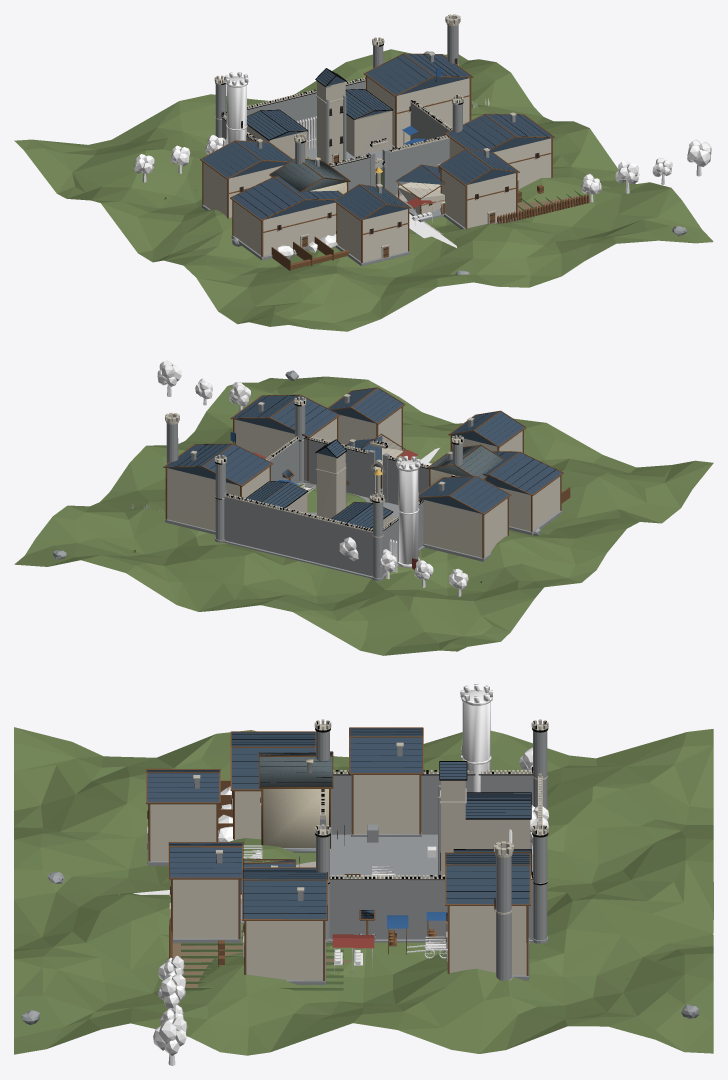
File: prime_village_stage1.glb
3 views of the same model, one above another, from view 1: azimuth 30°, elevation 25°; view 2: azimuth 150°, elevation 25°; view 3: azimuth 270°, elevation 25° (orthographic). The views are drawn at different scales.
Visible parts, largest first — view 1: PK_Village_Terrain_LOD0_Atlas, PK_Village_Castle_L1_LOD0_Atlas, PK_Village_Stable_L1_LOD0_Atlas, PK_Village_Academy_L1_LOD0_Atlas, PK_Village_House_B_LOD0_Atlas, PK_Village_House_C_LOD0_Atlas, PK_Village_Warehouse_L1_LOD0_Atlas, PK_Village_Blacksmith_L1_LOD0_Atlas, PK_Village_Farm_L1_LOD0_Atlas, PK_Village_House_L1_LOD0_Atlas, PK_Tree_Edge_B_LOD0, PK_Village_Watchtower_L1_LOD0 (+1 smaller); view 2: PK_Village_Terrain_LOD0_Atlas, PK_Village_Castle_L1_LOD0_Atlas, PK_Village_Academy_L1_LOD0_Atlas, PK_Village_Blacksmith_L1_LOD0_Atlas, PK_Village_Warehouse_L1_LOD0_Atlas, PK_Village_Stable_L1_LOD0_Atlas, PK_Village_House_B_LOD0_Atlas, PK_Village_House_C_LOD0_Atlas, PK_Village_Watchtower_L1_LOD0, PK_Village_House_L1_LOD0_Atlas, PK_Tree_Edge_A_LOD0, PK_Tree_Edge_B_LOD0 (+1 smaller); view 3: PK_Village_Terrain_LOD0_Atlas, PK_Village_Castle_L1_LOD0_Atlas, PK_Village_Academy_L1_LOD0_Atlas, PK_Village_Warehouse_L1_LOD0_Atlas, PK_Village_Blacksmith_L1_LOD0_Atlas, PK_Village_House_B_LOD0_Atlas, PK_Village_House_L1_LOD0_Atlas, PK_Village_House_C_LOD0_Atlas, PK_Village_Stable_L1_LOD0_Atlas, PK_Village_Farm_L1_LOD0_Atlas, PK_Village_Watchtower_L1_LOD0, PK_Tree_Edge_B_LOD0 (+3 smaller).
Part boxes in pixels (<box>): PK_Village_Terrain_LOD0_Atlas: <box>14,49,713,331</box>; PK_Village_Castle_L1_LOD0_Atlas: <box>214,37,463,196</box>; PK_Village_Stable_L1_LOD0_Atlas: <box>230,176,349,270</box>; PK_Village_Academy_L1_LOD0_Atlas: <box>363,14,473,148</box>; PK_Village_House_B_LOD0_Atlas: <box>438,148,519,229</box>; PK_Village_House_C_LOD0_Atlas: <box>334,183,411,266</box>; PK_Village_Warehouse_L1_LOD0_Atlas: <box>445,112,555,202</box>; PK_Village_Blacksmith_L1_LOD0_Atlas: <box>200,138,292,218</box>; PK_Village_Farm_L1_LOD0_Atlas: <box>395,163,590,223</box>; PK_Village_House_L1_LOD0_Atlas: <box>269,157,350,194</box>; PK_Tree_Edge_B_LOD0: <box>581,139,711,202</box>; PK_Village_Watchtower_L1_LOD0: <box>225,72,248,144</box>; PK_Village_Terrain_LOD0_Atlas: <box>14,370,713,655</box>; PK_Village_Castle_L1_LOD0_Atlas: <box>214,396,463,580</box>; PK_Village_Academy_L1_LOD0_Atlas: <box>163,412,273,534</box>; PK_Village_Blacksmith_L1_LOD0_Atlas: <box>418,476,511,561</box>; PK_Village_Warehouse_L1_LOD0_Atlas: <box>230,394,340,483</box>; PK_Village_Stable_L1_LOD0_Atlas: <box>483,451,570,535</box>; PK_Village_House_B_LOD0_Atlas: <box>327,387,405,449</box>; PK_Village_House_C_LOD0_Atlas: <box>448,410,526,452</box>; PK_Village_Watchtower_L1_LOD0: <box>396,456,420,567</box>; PK_Village_House_L1_LOD0_Atlas: <box>427,444,504,486</box>; PK_Tree_Edge_A_LOD0: <box>339,537,468,596</box>; PK_Tree_Edge_B_LOD0: <box>157,360,250,411</box>; PK_Village_Terrain_LOD0_Atlas: <box>14,727,713,1055</box>; PK_Village_Castle_L1_LOD0_Atlas: <box>314,719,548,943</box>; PK_Village_Academy_L1_LOD0_Atlas: <box>440,841,530,980</box>; PK_Village_Warehouse_L1_LOD0_Atlas: <box>218,867,327,984</box>; PK_Village_Blacksmith_L1_LOD0_Atlas: <box>337,727,423,842</box>; PK_Village_House_B_LOD0_Atlas: <box>168,842,243,943</box>; PK_Village_House_L1_LOD0_Atlas: <box>259,751,333,852</box>; PK_Village_House_C_LOD0_Atlas: <box>146,768,220,865</box>; PK_Village_Stable_L1_LOD0_Atlas: <box>218,731,315,839</box>; PK_Village_Farm_L1_LOD0_Atlas: <box>169,859,351,990</box>; PK_Village_Watchtower_L1_LOD0: <box>460,684,492,792</box>; PK_Tree_Edge_B_LOD0: <box>153,955,187,1065</box>.
Bounding box in the file's own units: 69.69 × 15.74 × 62.03.
23 materials, 12 textured.
